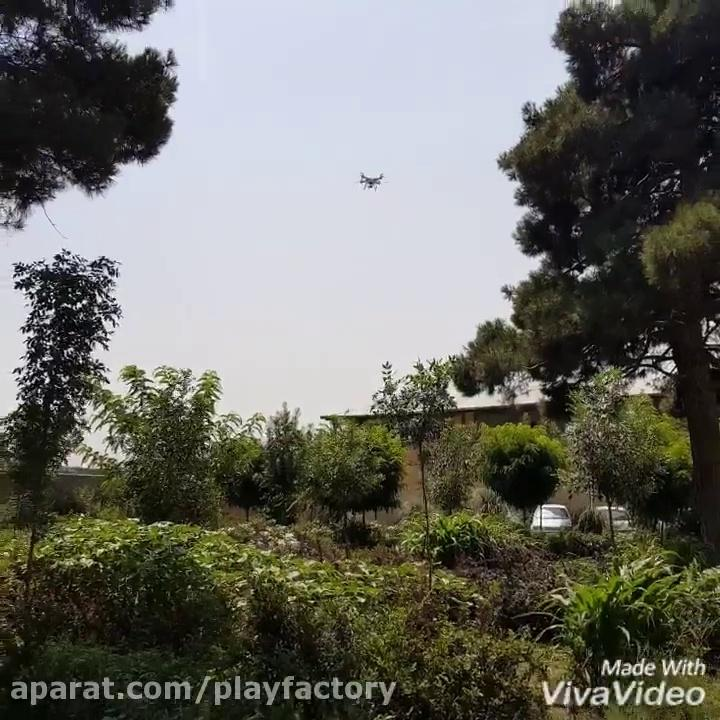drone: (353, 162, 391, 194)
